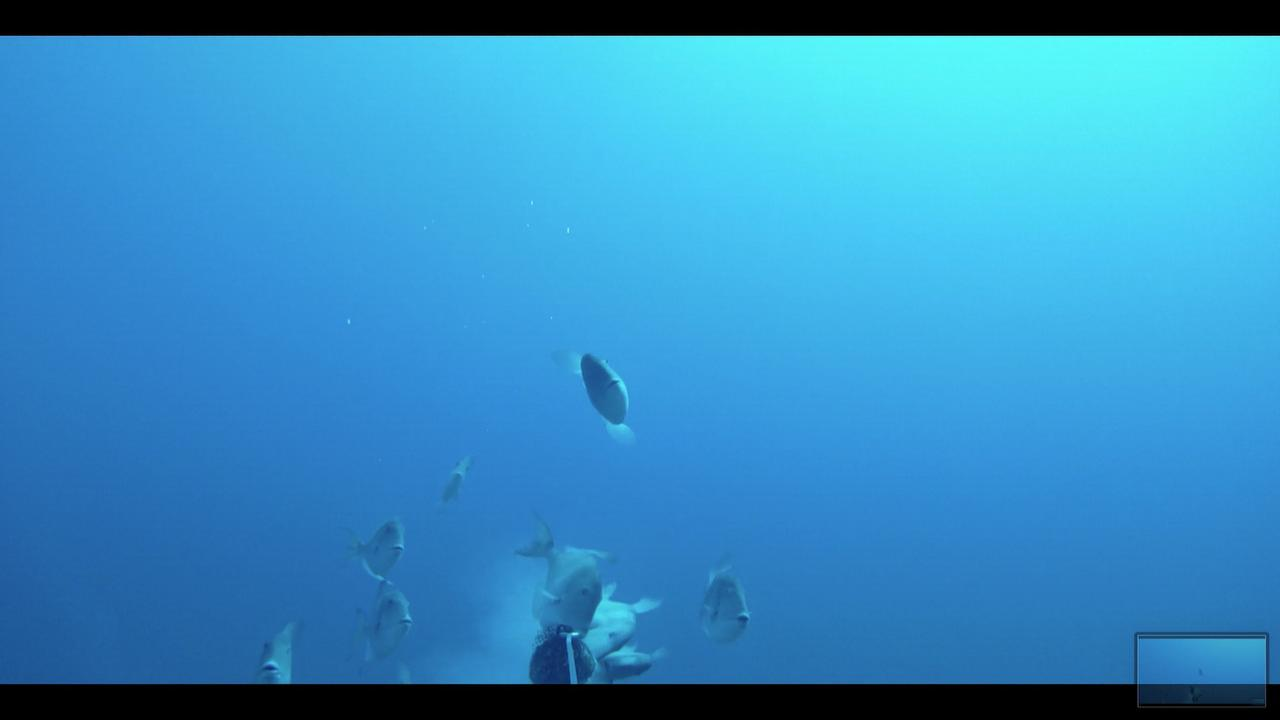balistes: (508, 500, 609, 631), (677, 551, 753, 650), (557, 347, 638, 439), (245, 615, 321, 683), (340, 516, 413, 584), (426, 450, 481, 509)
